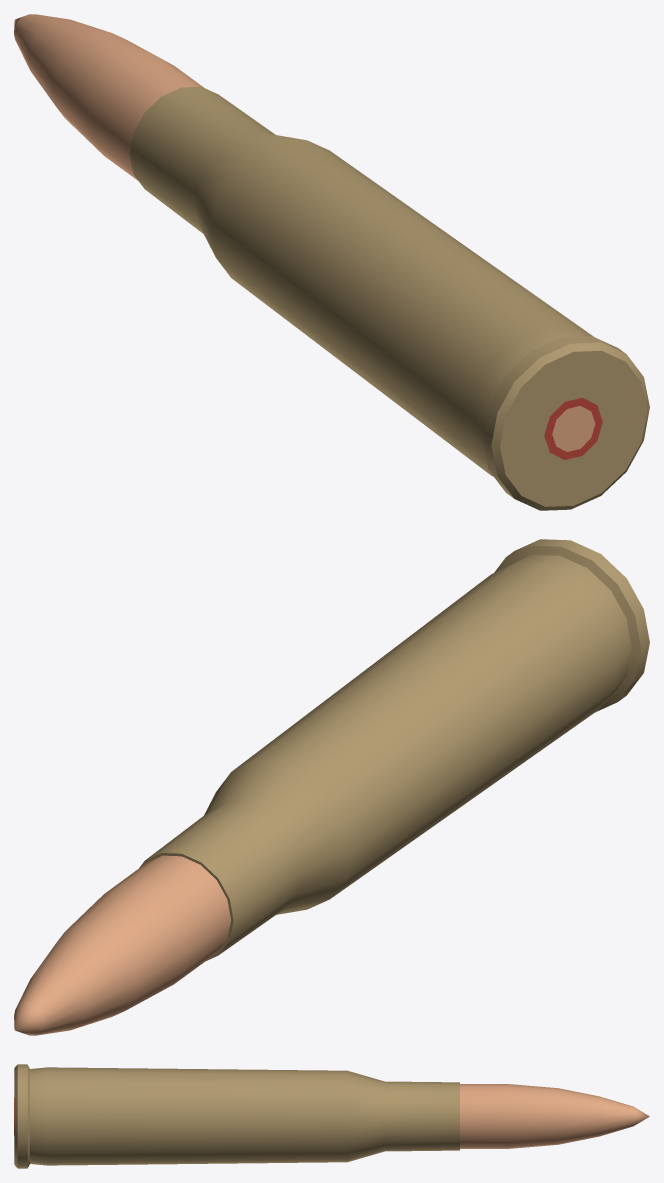
File: round_762r_repack.glb
3 views of the same model, one above another, from view 1: azimuth 30°, elevation 25°; view 2: azimuth 150°, elevation 25°; view 3: azimuth 270°, elevation 25° (orthographic). The views are drawn at different scales.
Parts seen in each view (by area): view 1: body; view 2: body; view 3: body.
Part boxes in pixels (x1=…): body: x1=14, y1=14, x2=649, y2=510; body: x1=14, y1=539, x2=649, y2=1035; body: x1=14, y1=1064, x2=649, y2=1168.
Size of the model in its own units: 0.0125 by 0.0125 by 0.0763.
